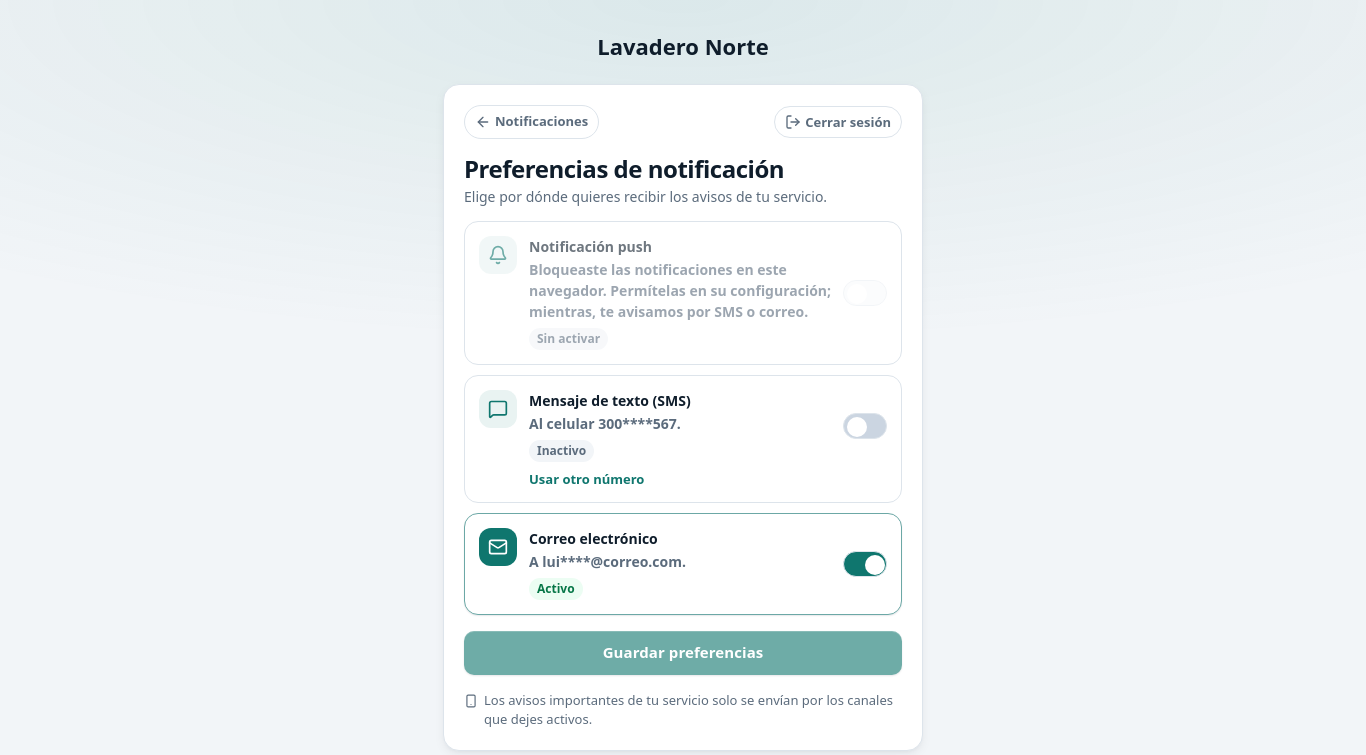
Test: HU-29 · pantalla de preferencias › CA4: al guardar informa por qué canales llegarán los próximos avisos
This screenshot has width=1366, height=755.
expect the heading "Preferencias de notificación" is shown: met, box top-left (464, 152), bottom-right (784, 184)
expect the button "Guardar preferencias" is disabled: met, box top-left (464, 631), bottom-right (902, 675)
Click the switch labelled "Mensaje de texto (SMS)". click: (865,426)
box: top-left (843, 413), bottom-right (887, 439)
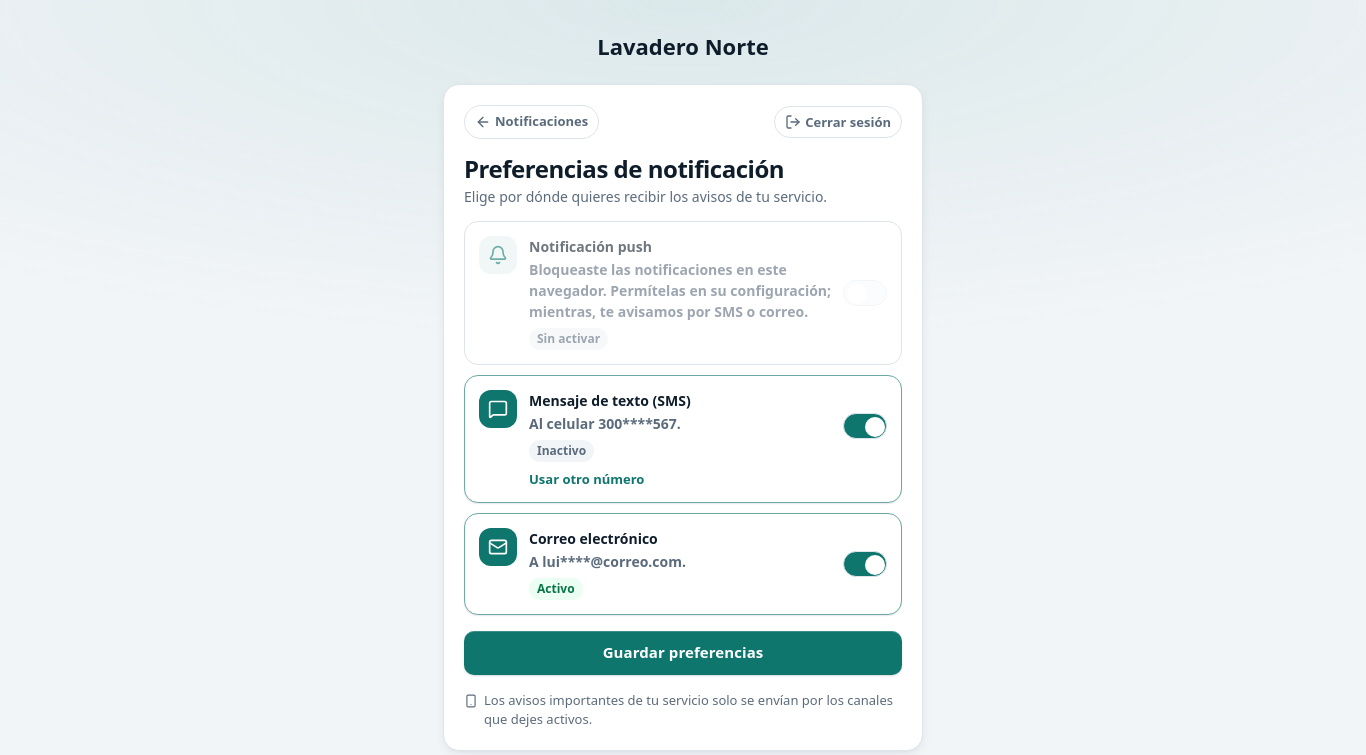
Click the button "Guardar preferencias". click: (683,653)
box: top-left (464, 631), bottom-right (902, 675)
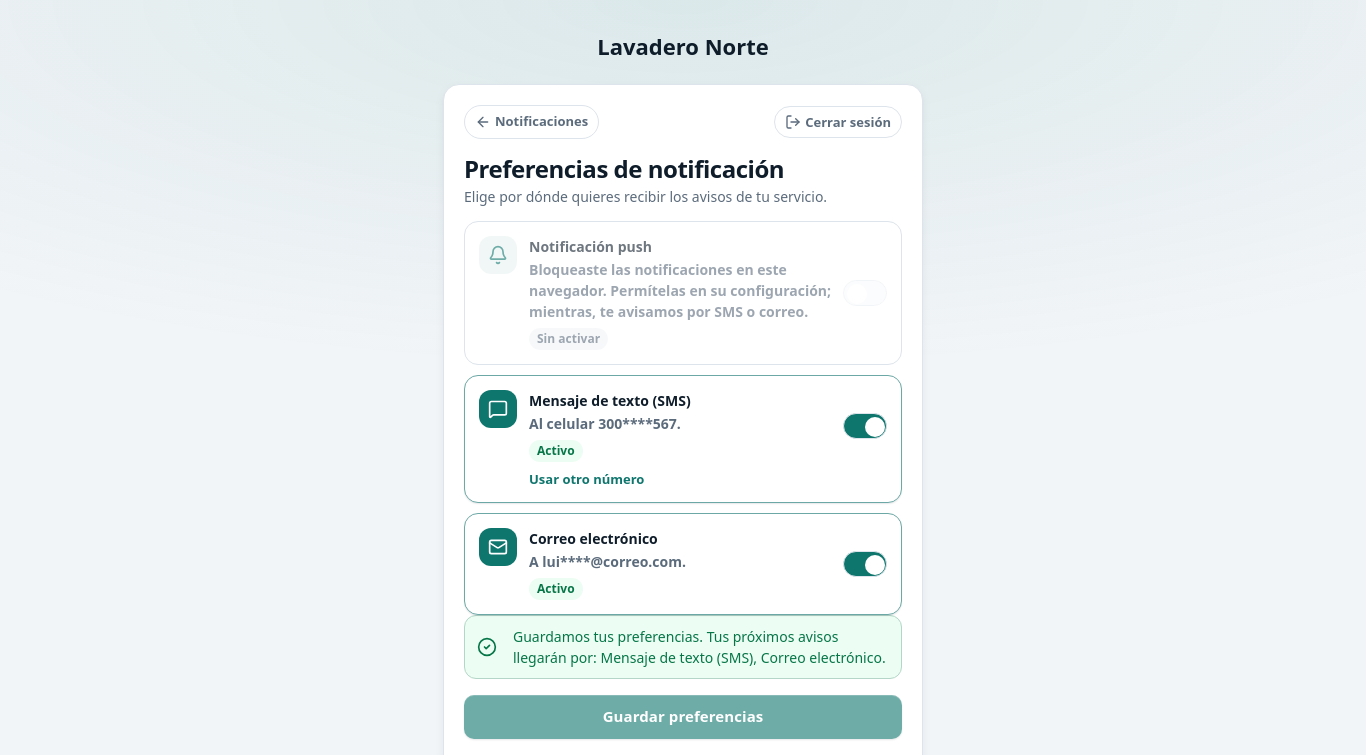
expect the text "Guardamos tus preferencias. Tus próximos avisos llegarán por: Mensaje de texto (SMS), Correo electrónico." is shown: met, box top-left (513, 627), bottom-right (886, 667)
